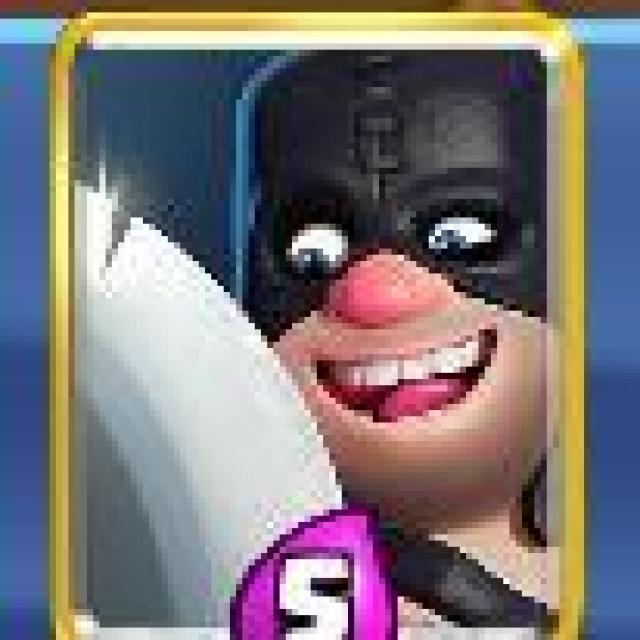Executioner: (50, 7, 590, 640)
